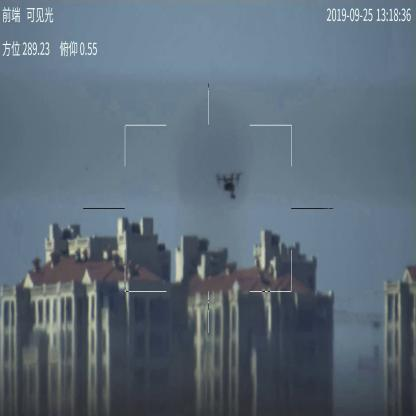uav: (214, 172, 244, 200)
